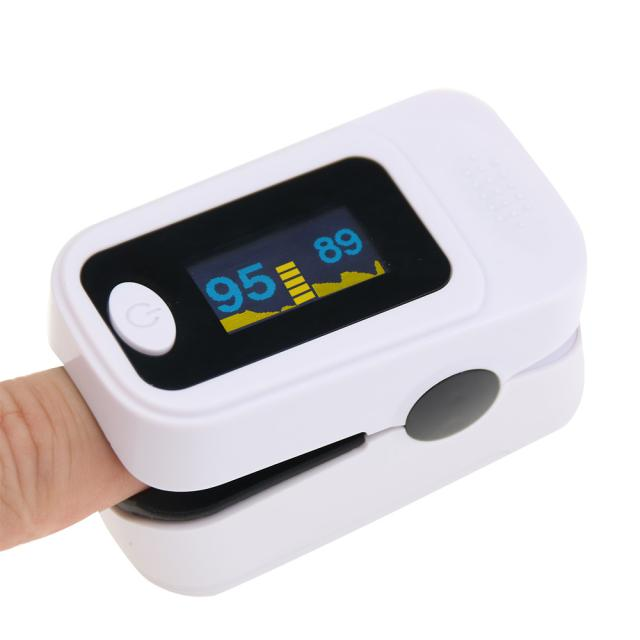oximeter: (39, 73, 639, 604)
